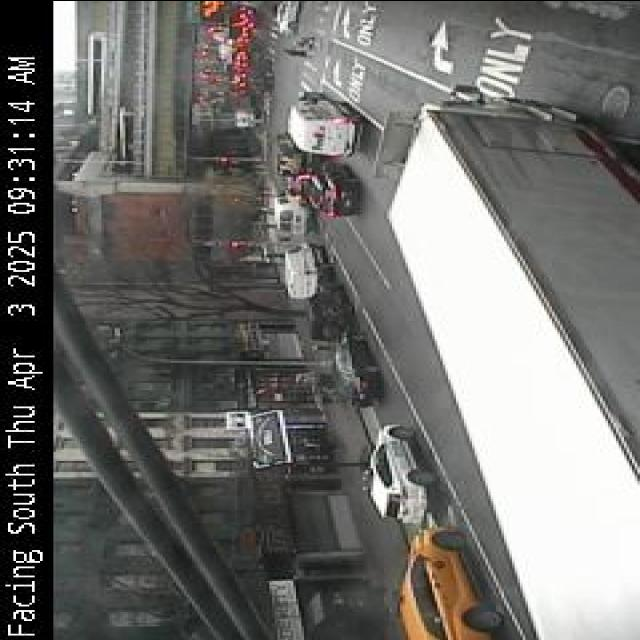open parking: (312, 286, 430, 536)
